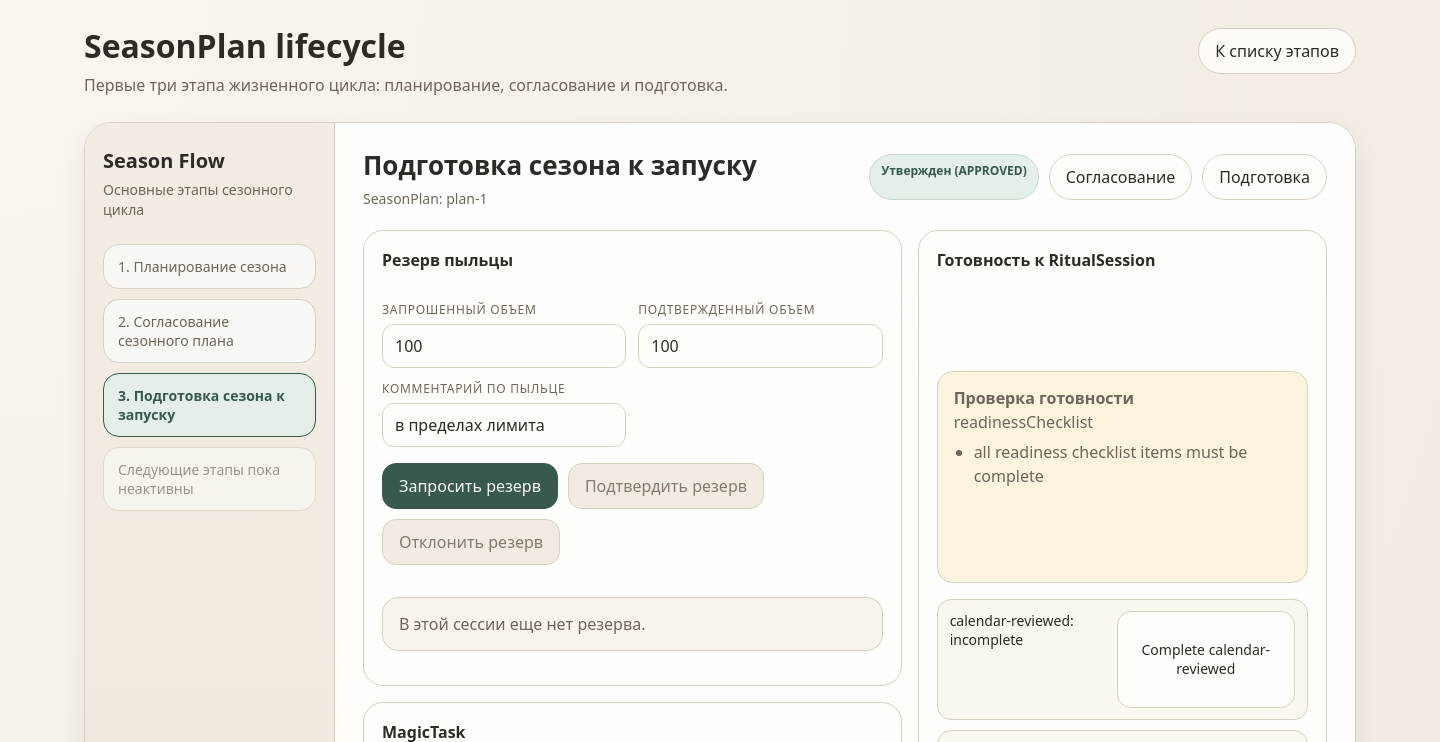
Test: PreparationPage › completes readiness checklist items through the backend
The image size is (1440, 742).
Click the button "Complete calendar-reviewed": (1206, 659) left=1117, top=611, right=1295, bottom=708
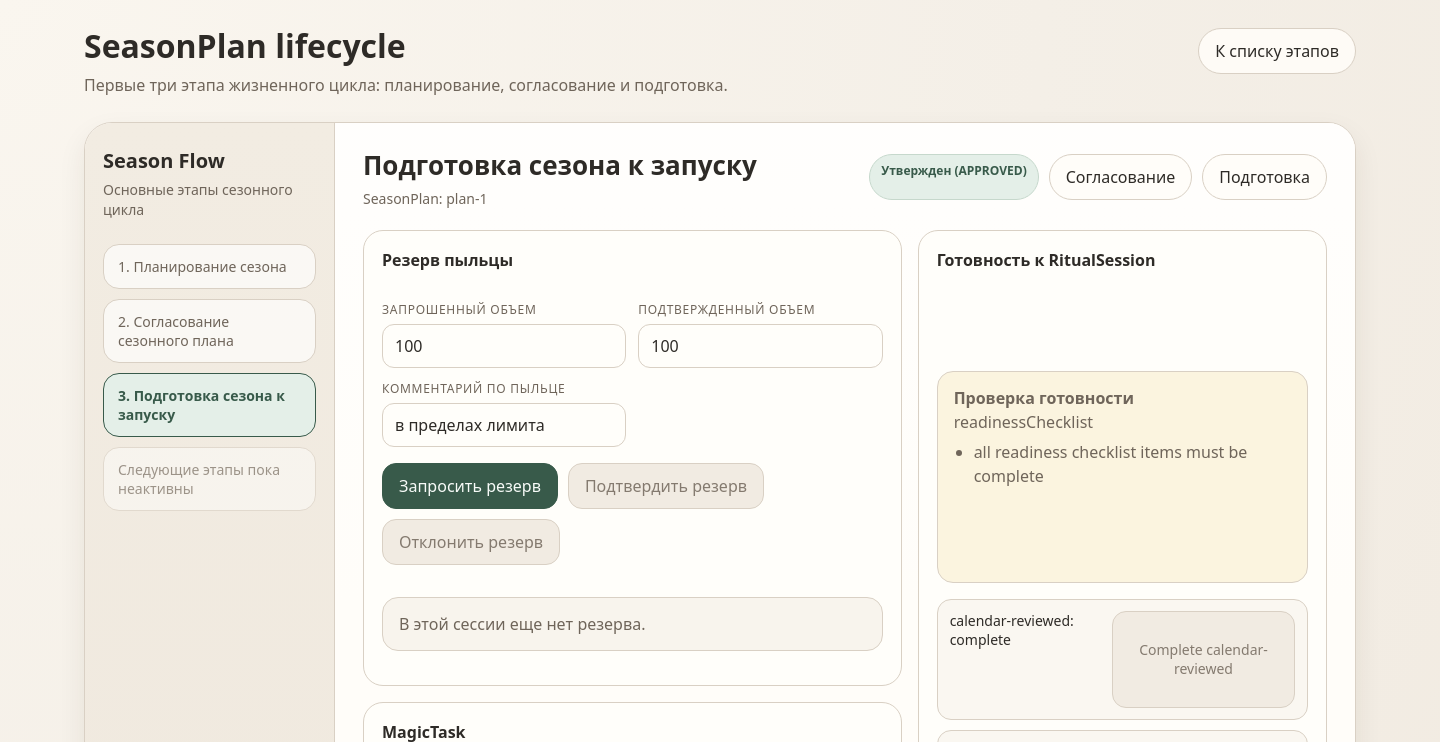
Result: the text "calendar-reviewed: complete" is shown at left=950, top=611, right=1074, bottom=649
